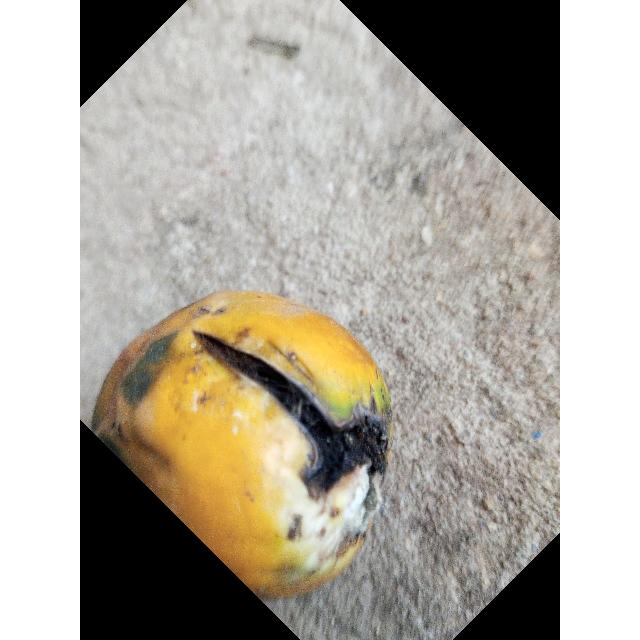damaged: (91, 289, 393, 604)
